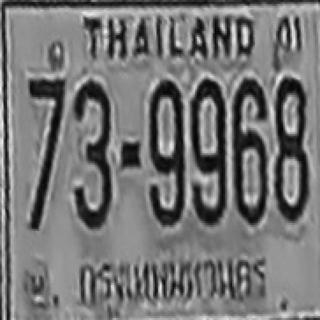N00: (191, 78, 226, 172), (149, 78, 184, 172), (274, 76, 306, 147)
N07: (27, 77, 66, 159)
N08: (272, 76, 308, 220)
N09: (148, 114, 185, 224)
P04: (68, 254, 279, 311)
